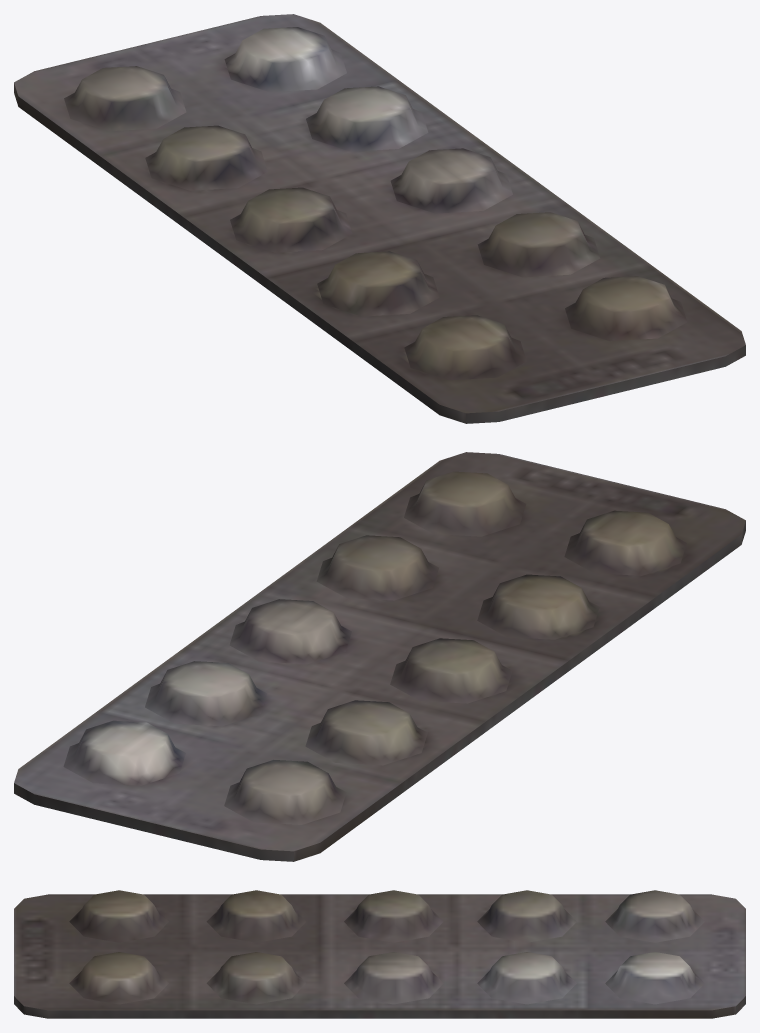
The model's file is pills_packet_1.obj.
3 renders of one model, top to bottom at view 1: azimuth 30°, elevation 25°; view 2: azimuth 150°, elevation 25°; view 3: azimuth 270°, elevation 25°, orthographic. The views are drawn at different scales.
Visible parts, largest first — view 1: pills_packet_1; view 2: pills_packet_1; view 3: pills_packet_1.
Boxes of the visible parts, <box> form: pills_packet_1: <box>14,14,745,423</box>; pills_packet_1: <box>14,452,745,861</box>; pills_packet_1: <box>14,890,745,1018</box>.
Size of the model in its own units: 1.92 by 0.192 by 5.12.
1 material, 1 textured.
